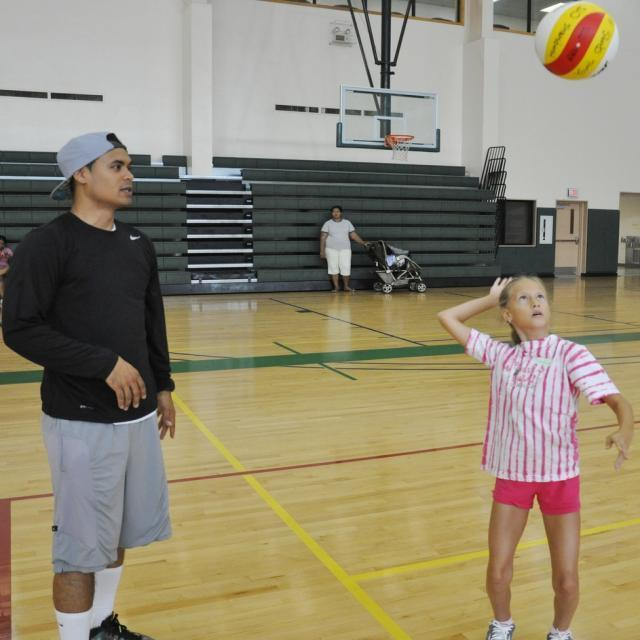ball: (534, 0, 621, 83)
